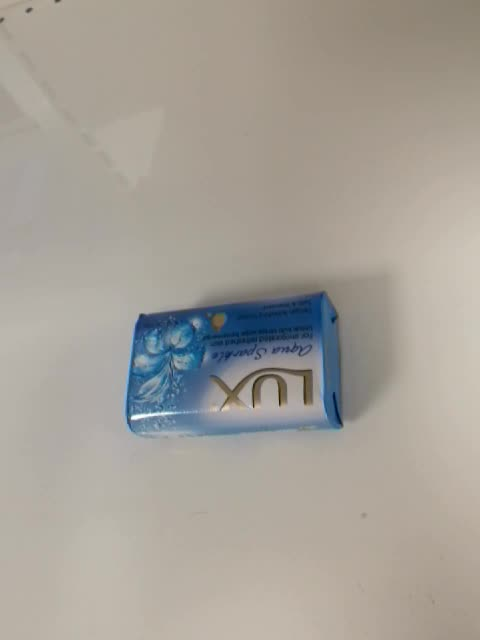soap: (125, 289, 345, 439)
